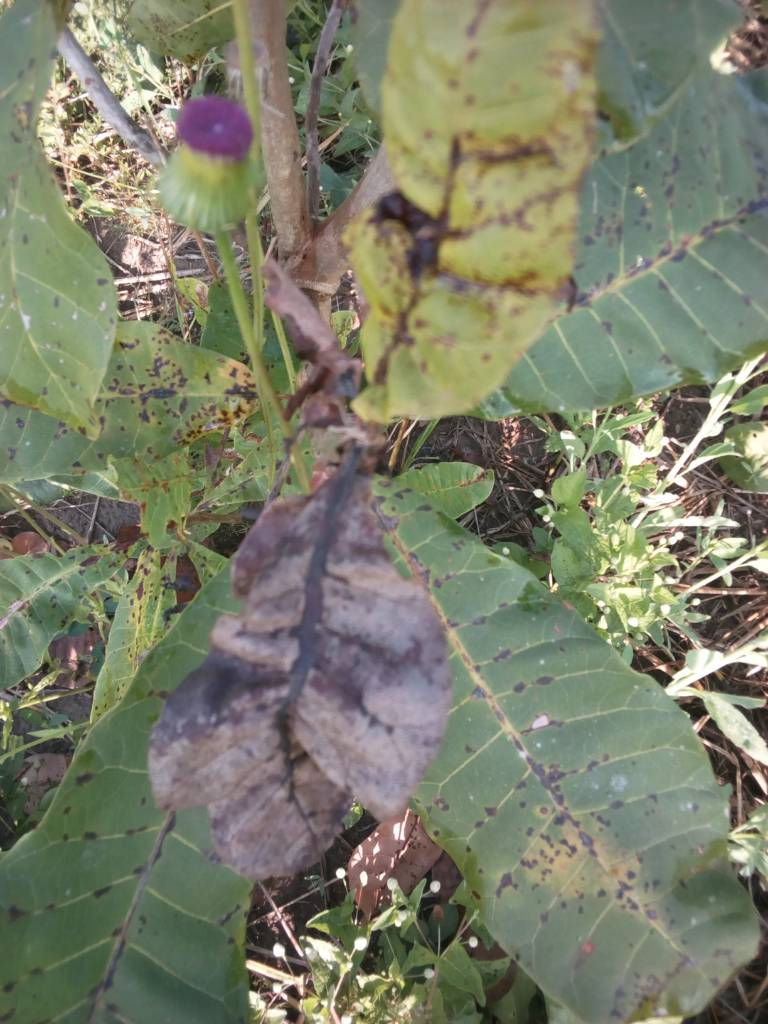Die-black: (271, 457, 474, 833), (135, 588, 380, 883)
